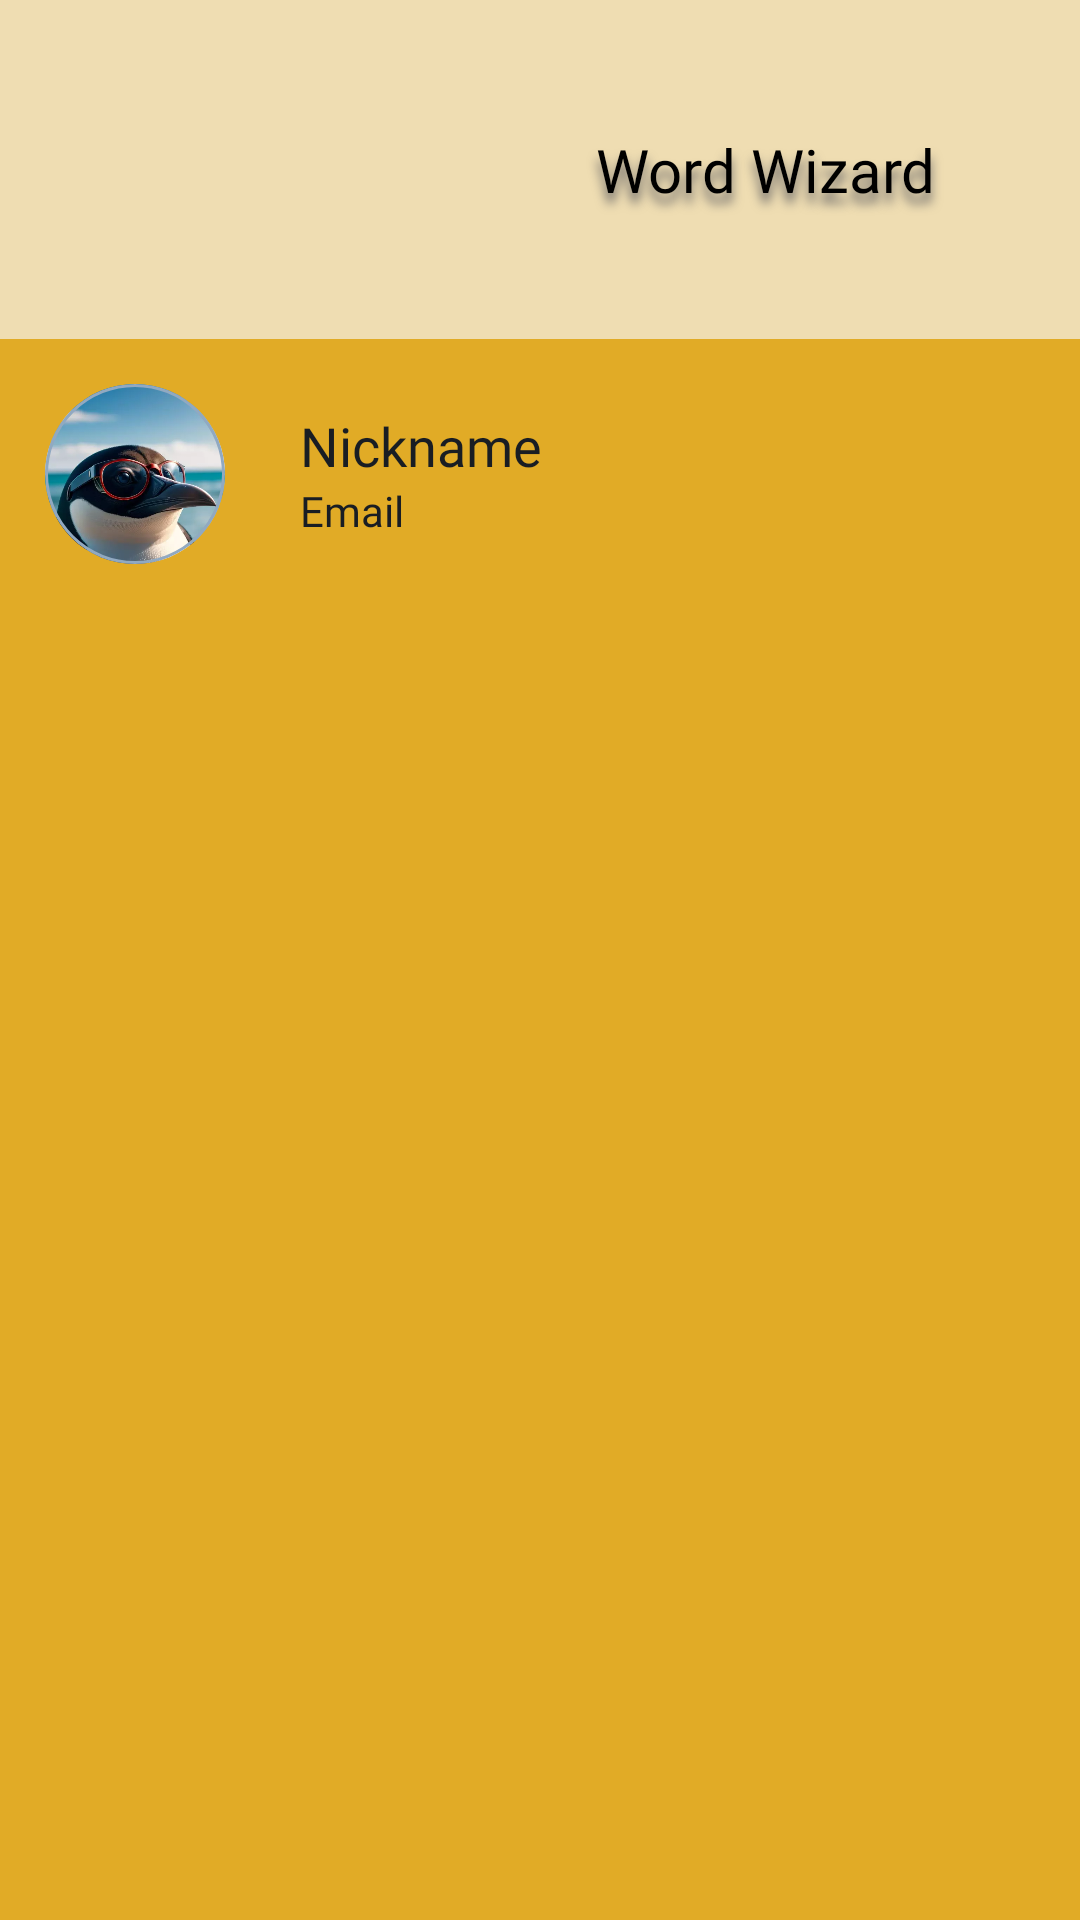

Where to tap for icons on this 1080 x 1920 app screen, as (x,y):
Account Image: (135,474)
